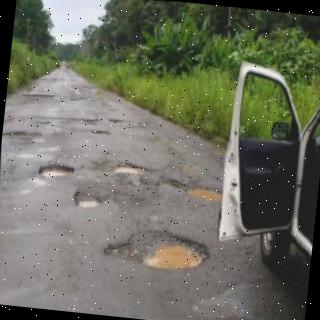pothole: (103, 229, 209, 272), (73, 187, 104, 208), (186, 187, 222, 203), (37, 163, 75, 178), (115, 162, 148, 175)
